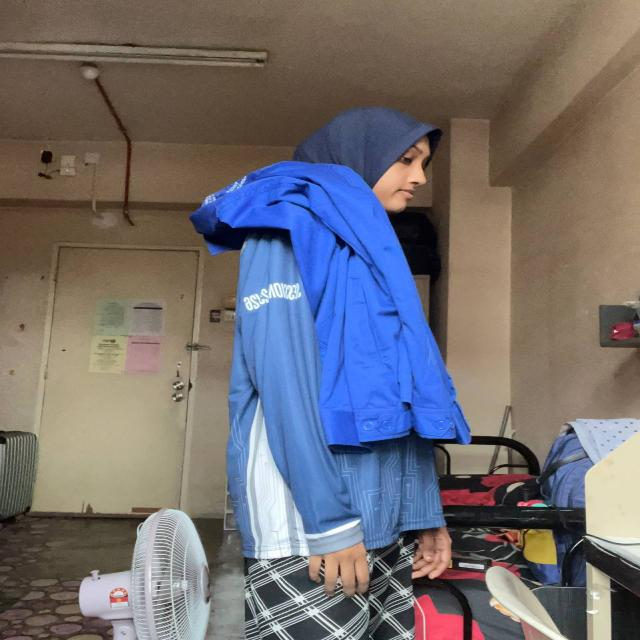person_without_labcoat: (191, 107, 470, 640), (0, 235, 311, 485)
